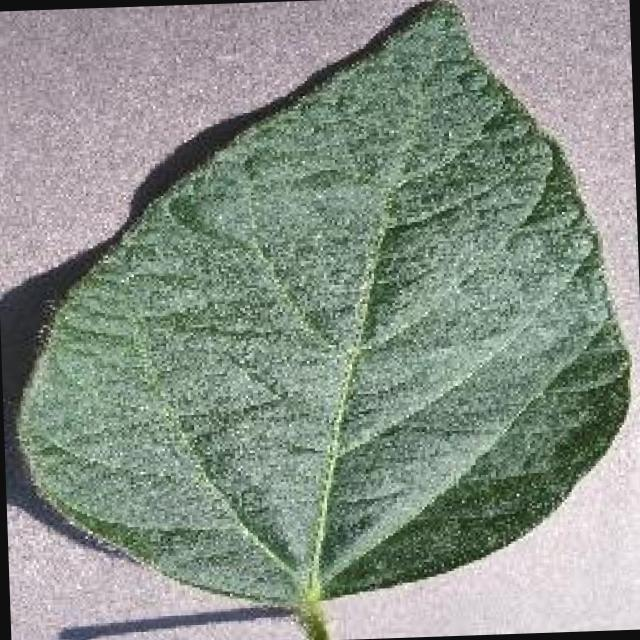healthy: (19, 1, 627, 638)
